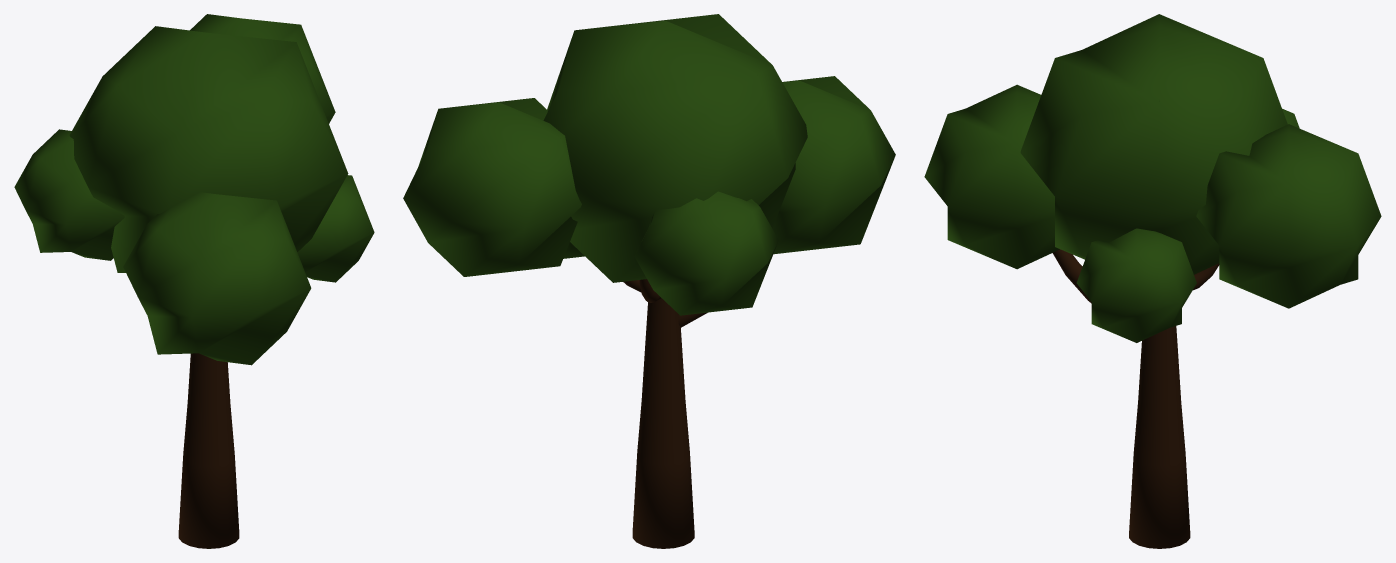
File: Tree.obj
The picture shows the model from 3 angles, left to right: view 1: azimuth 30°, elevation 25°; view 2: azimuth 150°, elevation 25°; view 3: azimuth 270°, elevation 25°; orthographic projection. The views are drawn at different scales.
Parts seen in each view (by area): view 1: Box007; view 2: Box007; view 3: Box007.
Part boxes in pixels (<box>): Box007: <box>14,14,374,548</box>; Box007: <box>403,14,895,548</box>; Box007: <box>924,14,1381,548</box>.
Bounding box in the file's own units: 4.74 × 7.16 × 5.84.
1 material, 1 textured.
